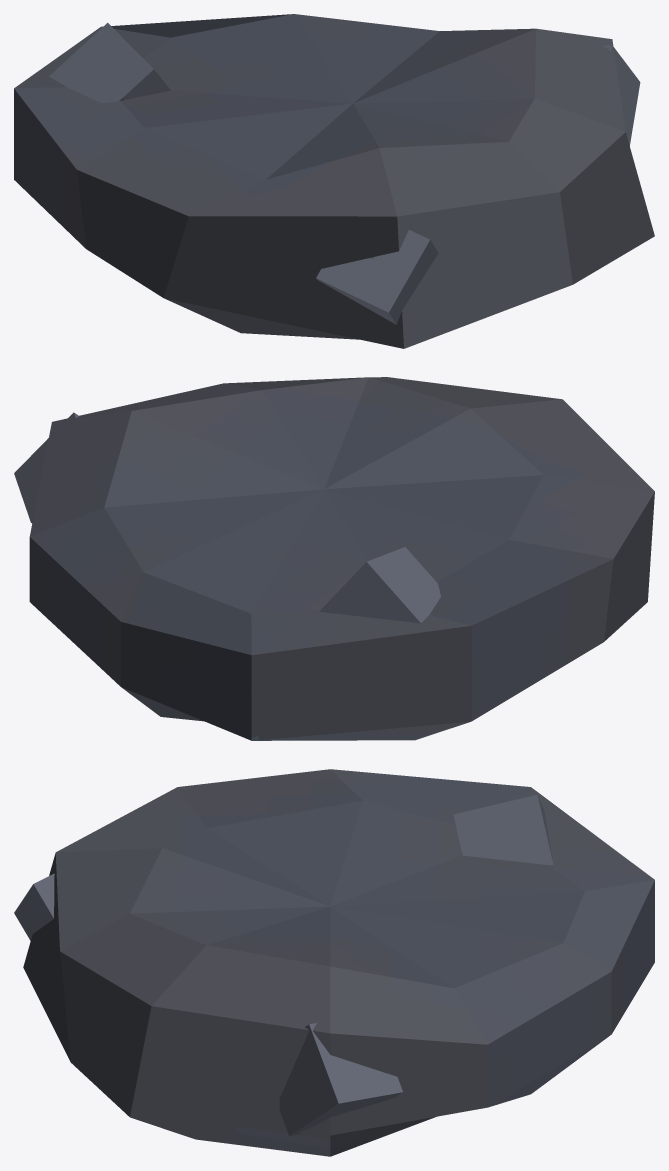
The model's file is meteor.fbx.
3 views of the same model, one above another, from view 1: azimuth 30°, elevation 25°; view 2: azimuth 150°, elevation 25°; view 3: azimuth 270°, elevation 25° (orthographic). The views are drawn at different scales.
Parts seen in each view (by area): view 1: sphere, cube_1, cube, cube_2; view 2: sphere, cube, cube_2; view 3: sphere, cube_2, cube, cube_1.
Boxes of the visible parts, x1,y1,x2,y2 form: sphere: [14, 14, 654, 348]; cube_1: [316, 230, 438, 324]; cube: [49, 22, 170, 103]; cube_2: [603, 45, 640, 145]; sphere: [29, 377, 654, 740]; cube: [319, 547, 440, 623]; cube_2: [14, 412, 79, 523]; sphere: [23, 769, 654, 1156]; cube_2: [279, 1023, 402, 1135]; cube: [453, 794, 553, 864]; cube_1: [14, 873, 54, 940].
Size of the model in its own units: 95.72 by 37.21 by 92.58.
1 material, 1 textured.
